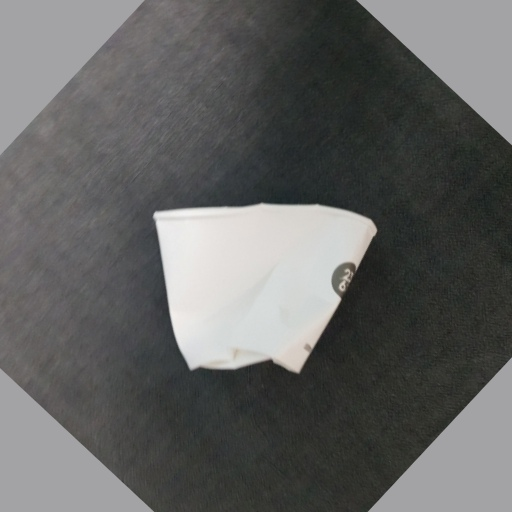Paper_1: (148, 199, 379, 378)
